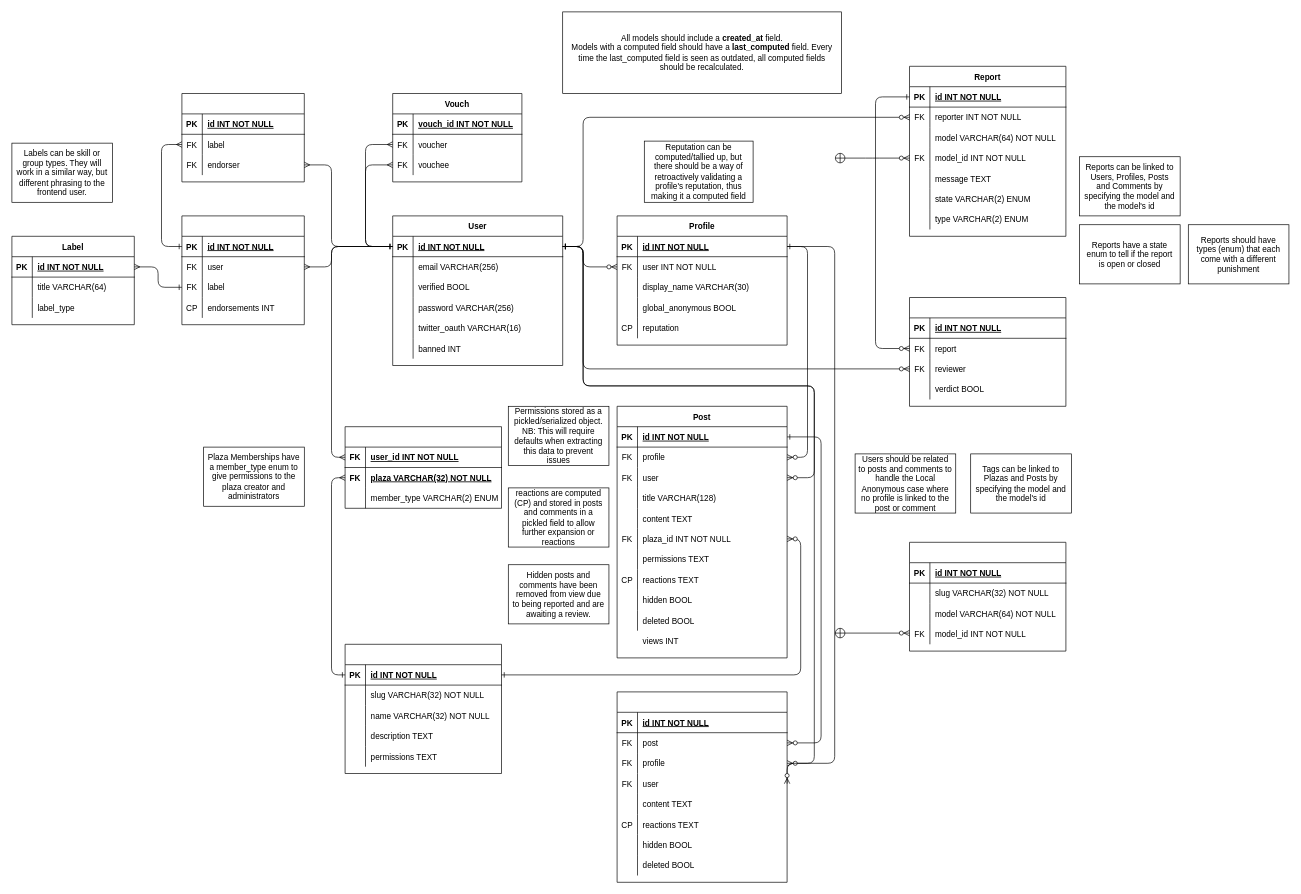
Some shapes in this 1301 by 894 pixel diagram are drawn without their labels. Here are the shapes that lost their labels. From the top down, the box of each, then its label:
(181, 93, 304, 182): LabelEndorsement
(181, 215, 304, 325): UserLabel
(909, 297, 1066, 406): Report Response
(344, 426, 502, 508): PlazaMember
(909, 542, 1066, 651): Tag
(344, 644, 502, 774): Plaza
(616, 691, 787, 882): Comment
